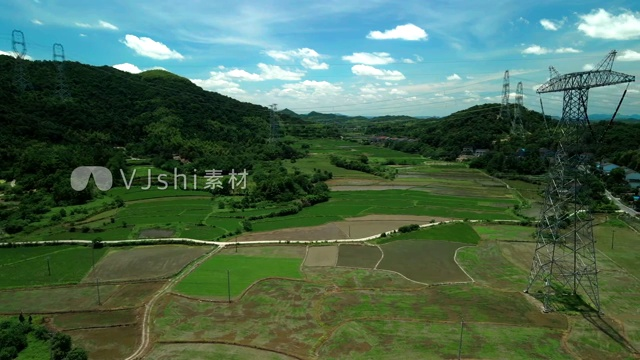tower_body: (518, 44, 637, 317)
tower_foot: (522, 242, 605, 314)
tower_head: (528, 48, 636, 94)
